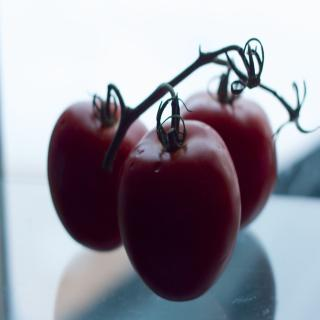tomato: (117, 108, 243, 310), (46, 95, 149, 251), (176, 87, 280, 228)
